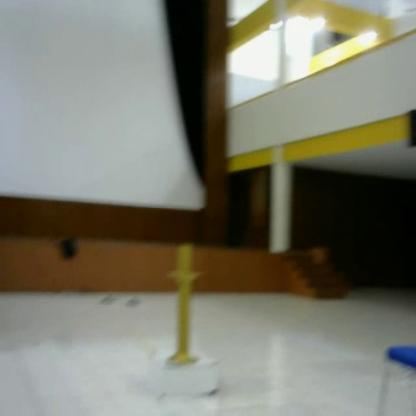pole: (164, 242, 206, 371)
